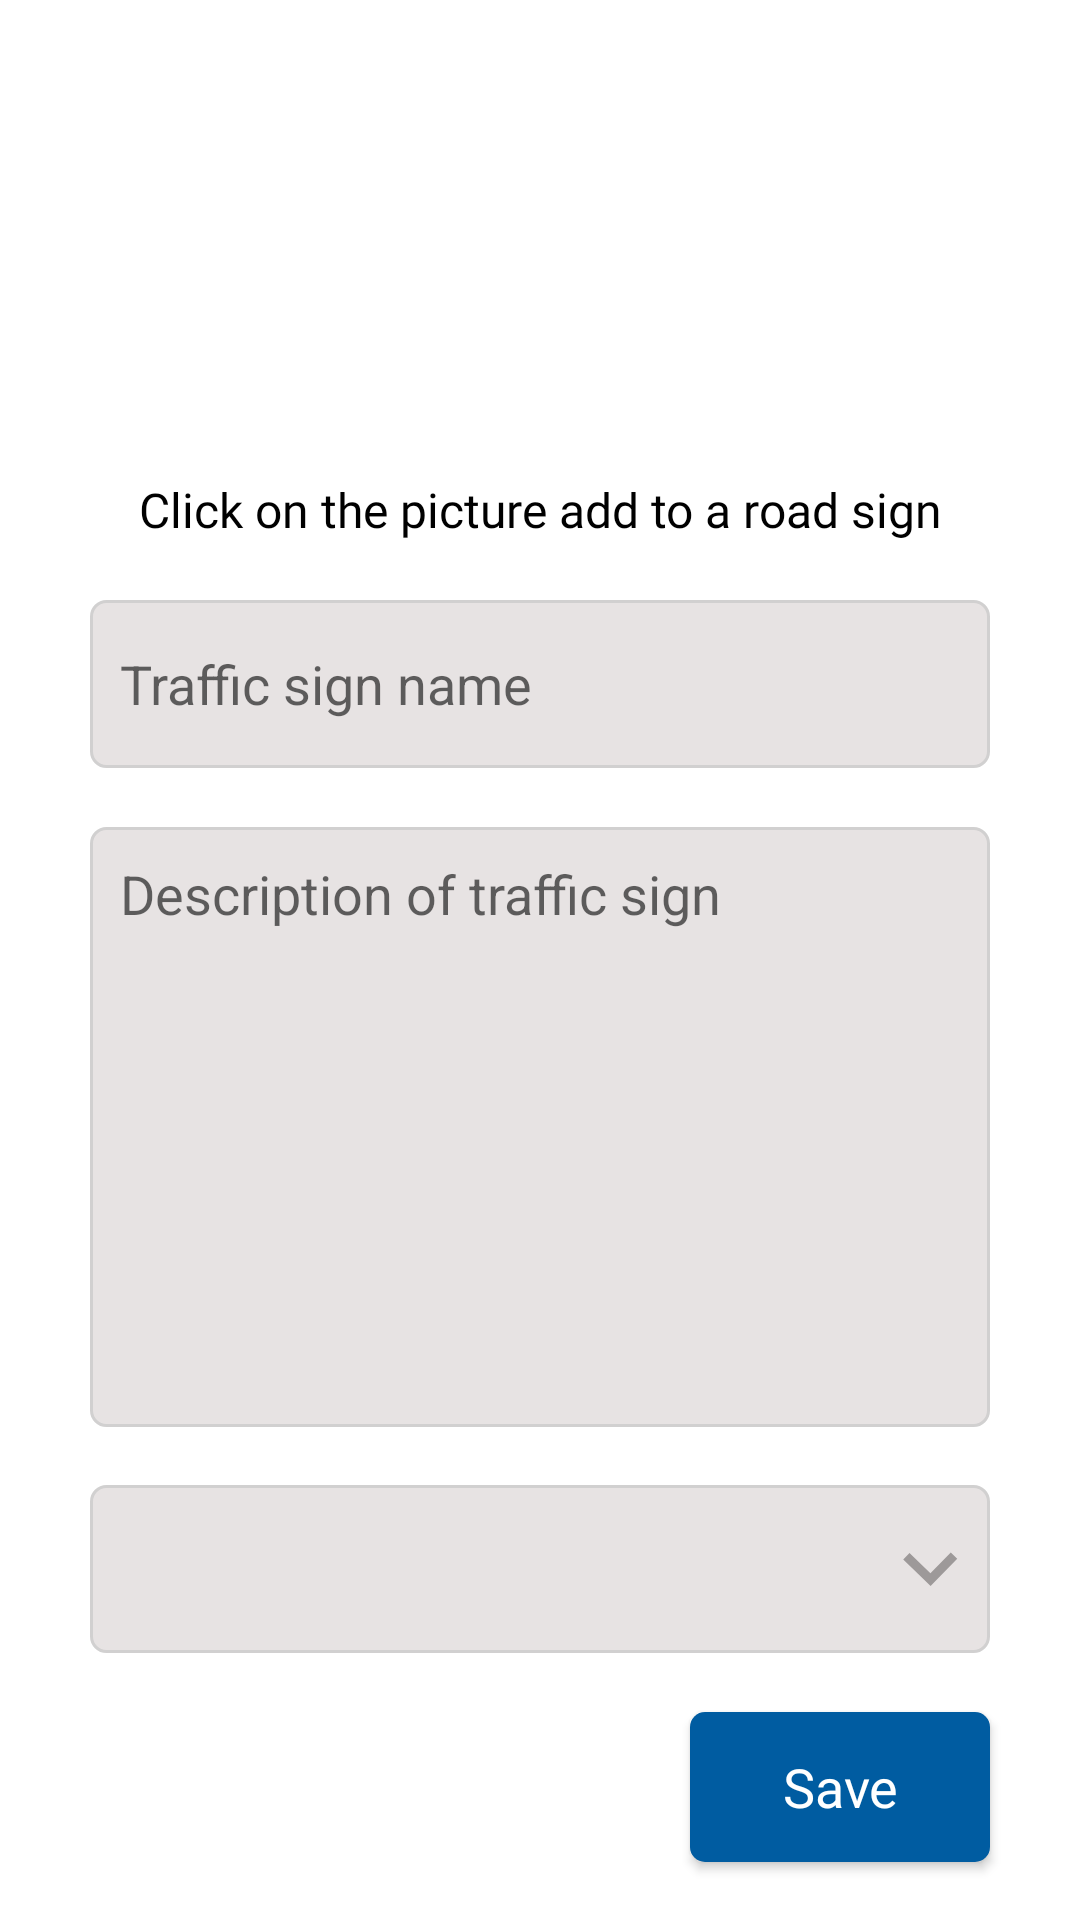

Where icons sit on this 1080px×1920px app screen, as (x1, y1, x2, y2):
down row: (903, 1553, 957, 1586)
